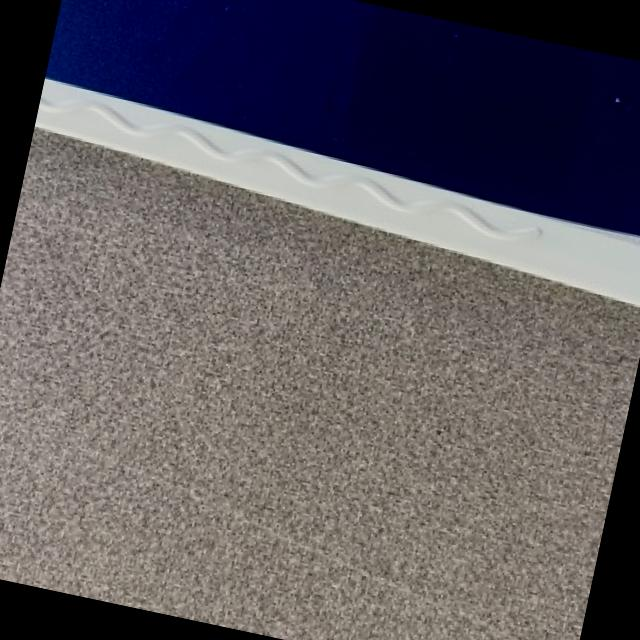healthy: (0, 0, 640, 640), (39, 0, 640, 302)
